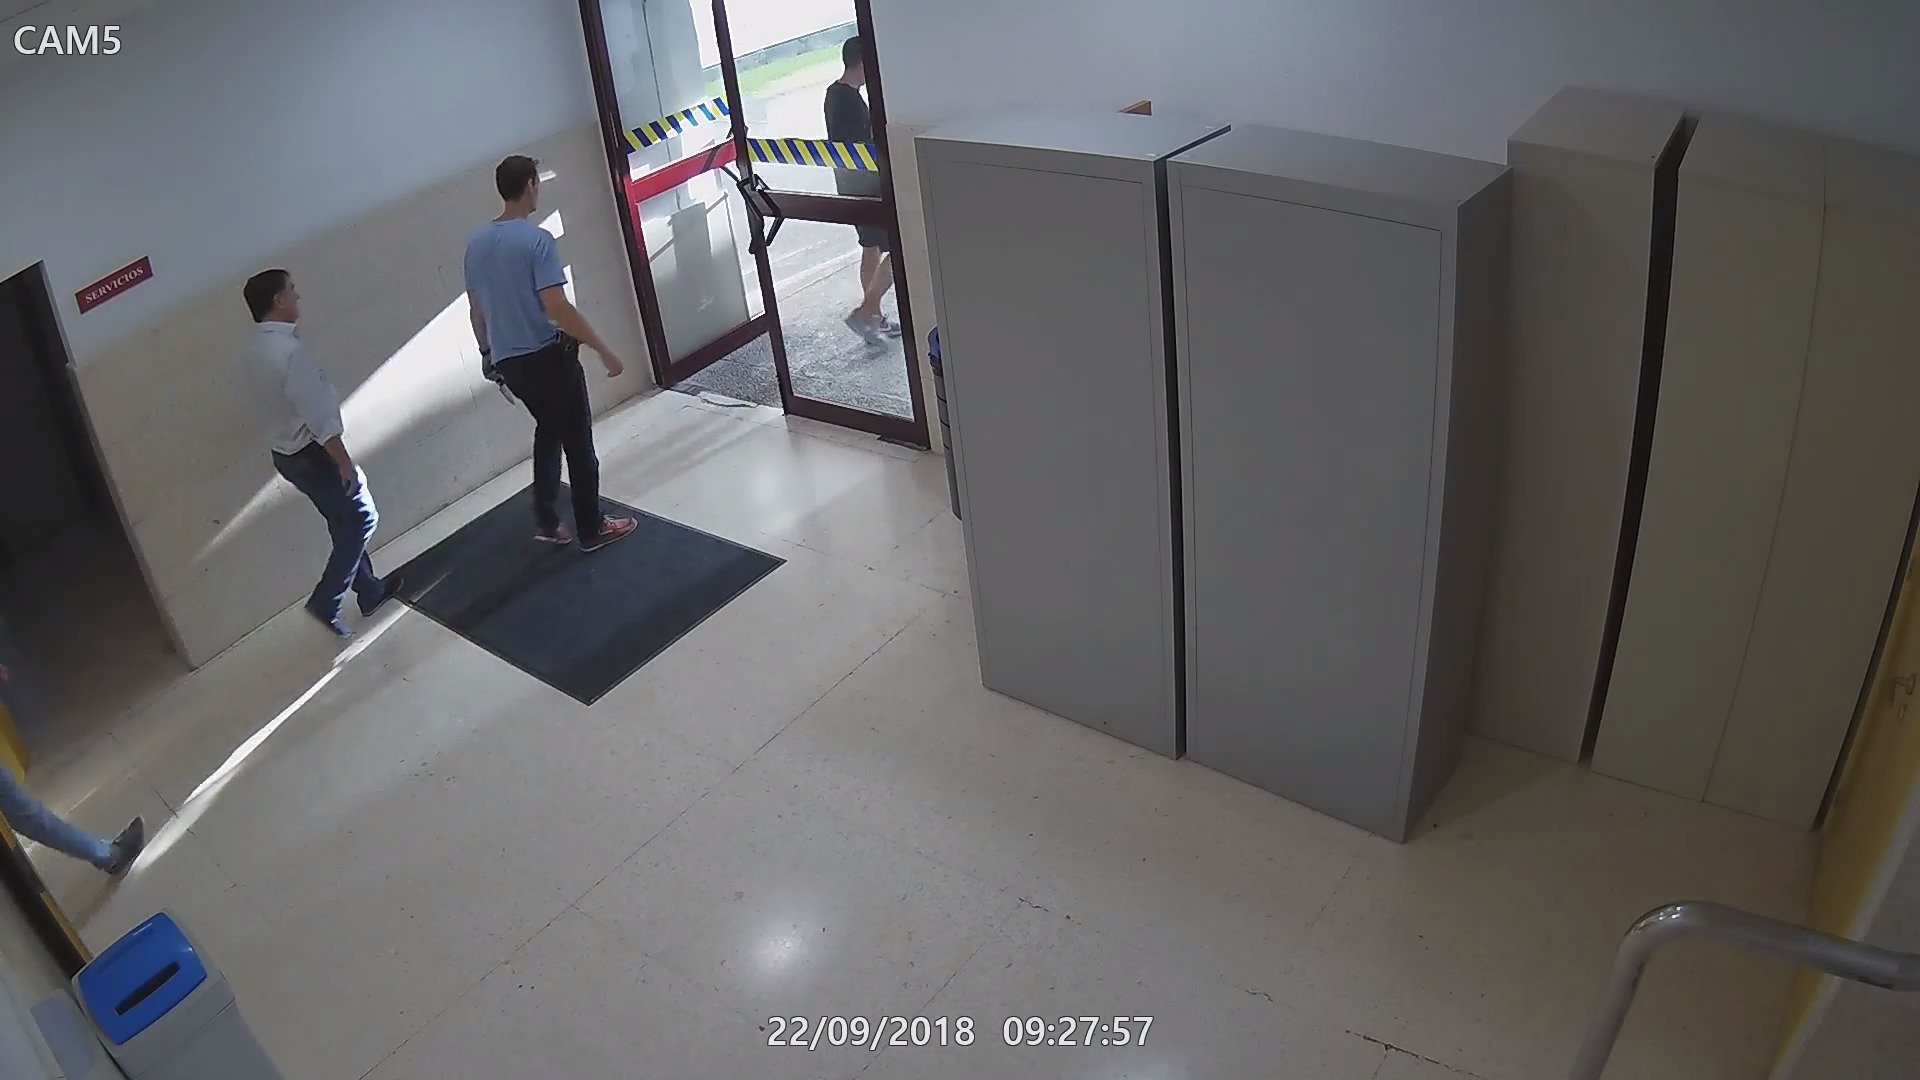Handgun: (555, 328, 587, 367), (311, 436, 336, 473)
Knife: (481, 352, 517, 407)
